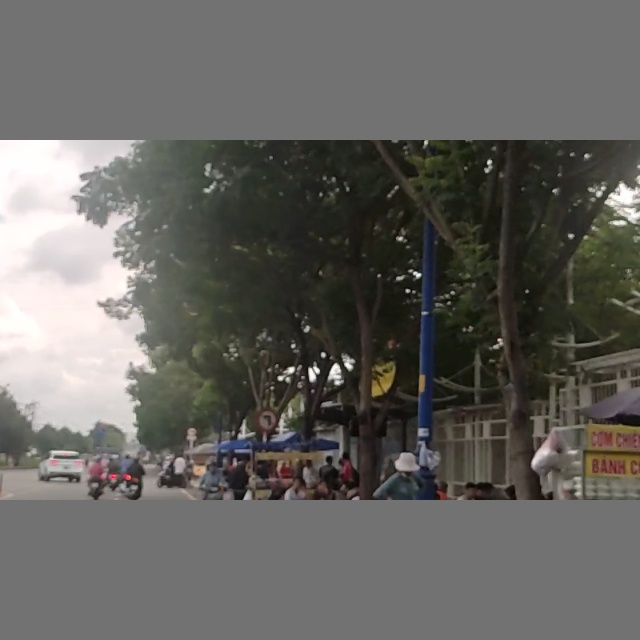P.123a: (256, 409, 278, 431)
